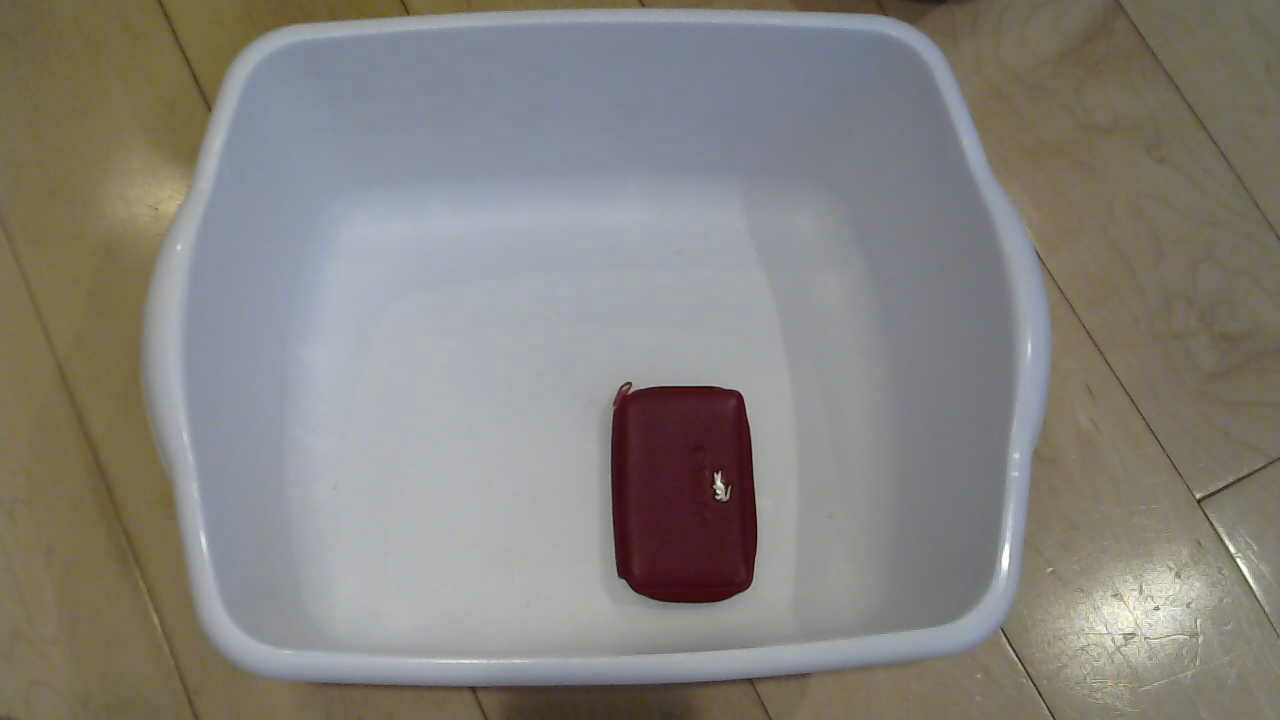wallet: (599, 380, 787, 611)
